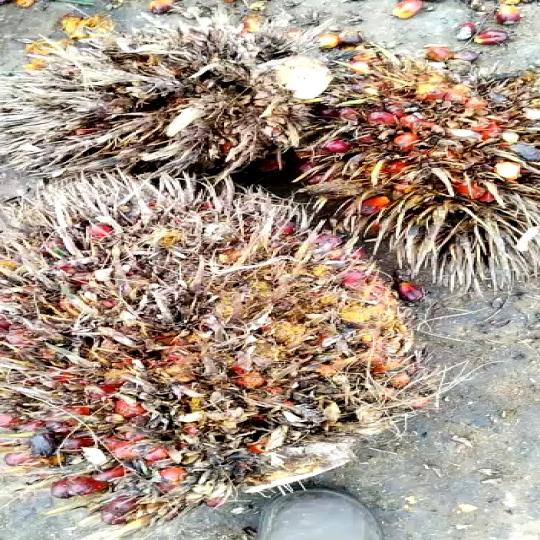terlalu masak: (0, 176, 467, 525), (255, 60, 540, 266), (14, 41, 308, 190)
